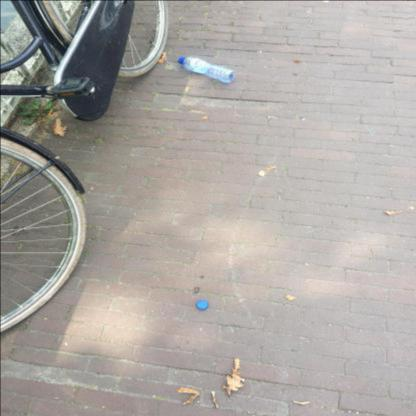Bottle: (196, 300, 208, 309), (178, 56, 184, 63)
Bottle cap: (178, 56, 235, 82)
